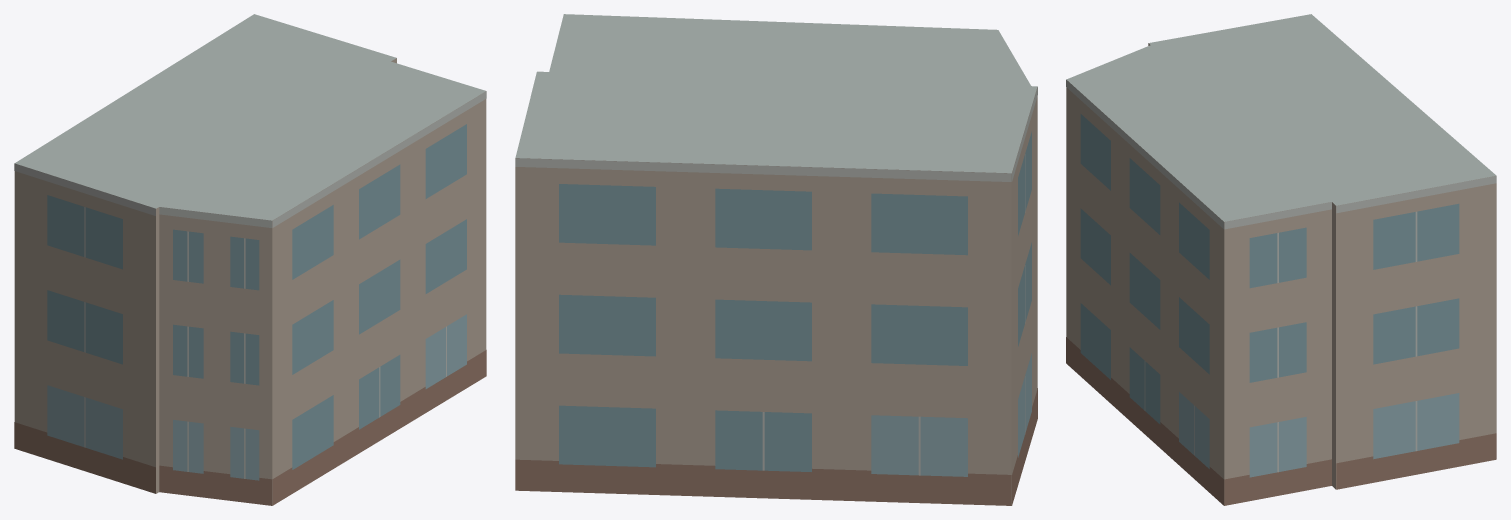
Rendered from survey-upis-33032313.glb.
3 renders of one model, left to right at view 1: azimuth 30°, elevation 25°; view 2: azimuth 150°, elevation 25°; view 3: azimuth 270°, elevation 25°, orthographic. The views are drawn at different scales.
Parts seen in each view (by area): view 1: survey-upis-33032313.tmp; view 2: survey-upis-33032313.tmp; view 3: survey-upis-33032313.tmp.
Boxes of the visible parts, <box> form: survey-upis-33032313.tmp: <box>14,14,486,505</box>; survey-upis-33032313.tmp: <box>515,14,1037,505</box>; survey-upis-33032313.tmp: <box>1066,14,1496,505</box>.
Size of the model in its own units: 14.38 by 9.15 by 12.58.
